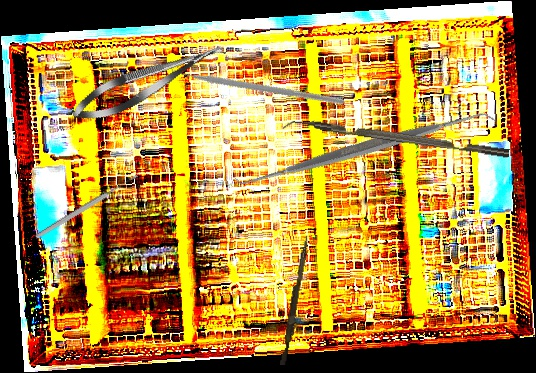Chopper: (165, 2, 345, 160), (282, 113, 510, 170)
Micro Scissor: (66, 32, 231, 131)
Pusher: (279, 235, 310, 366)
Spatula Surgical: (232, 15, 497, 282)
Surgical Spoon: (33, 172, 141, 241)
